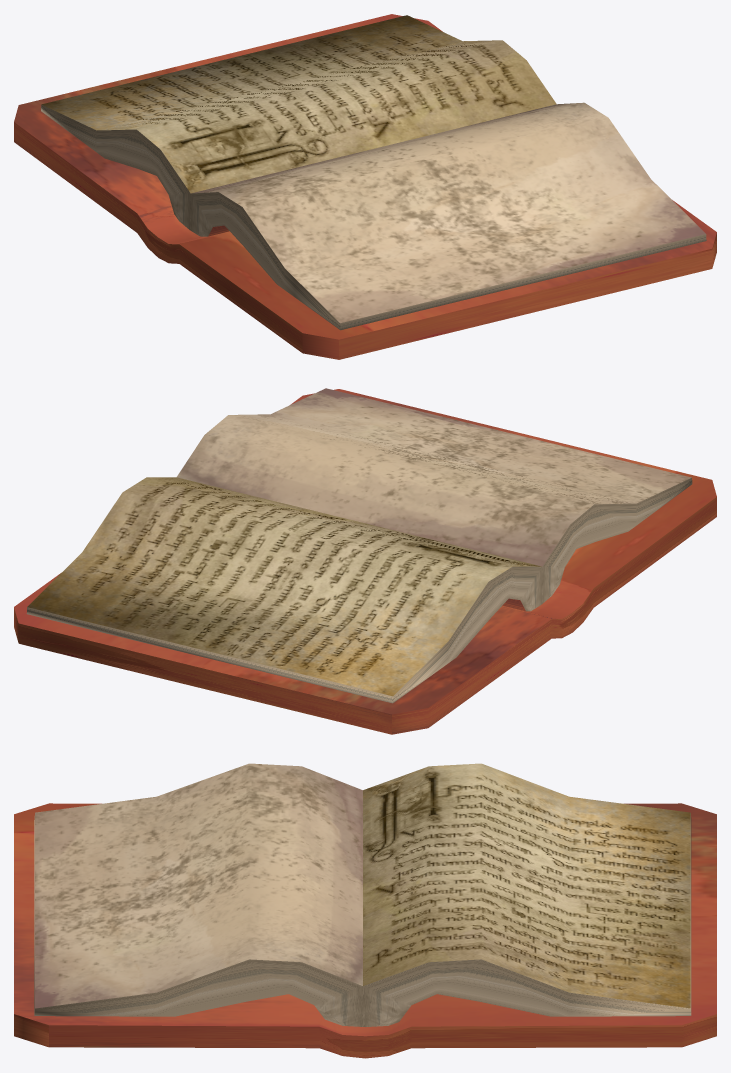
Rendered from Book_Open_2.fbx.
The picture shows the model from 3 angles, top to bottom: view 1: azimuth 30°, elevation 25°; view 2: azimuth 150°, elevation 25°; view 3: azimuth 270°, elevation 25°; orthographic projection. The views are drawn at different scales.
Visible parts, largest first — view 1: BookOpen; view 2: BookOpen; view 3: BookOpen.
Part boxes in pixels (<box>): BookOpen: <box>14,14,716,359</box>; BookOpen: <box>14,388,716,734</box>; BookOpen: <box>14,763,716,1058</box>.
Size of the model in its own units: 33.7 by 6.38 by 45.15.
1 material, 1 textured.
